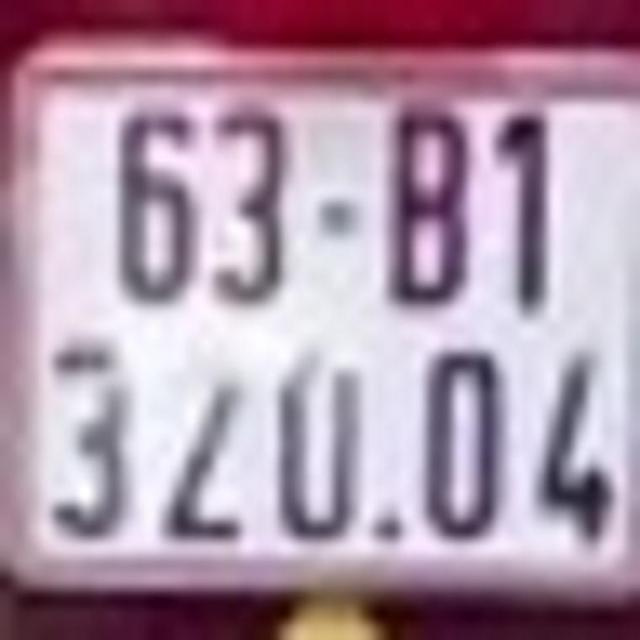0: (275, 336, 359, 538), (420, 344, 504, 541)
1: (492, 108, 546, 322)
2: (160, 340, 243, 543)
3: (208, 103, 288, 300), (50, 343, 130, 531)
4: (536, 346, 614, 541)
6: (116, 100, 200, 308)
B: (392, 102, 472, 308)
